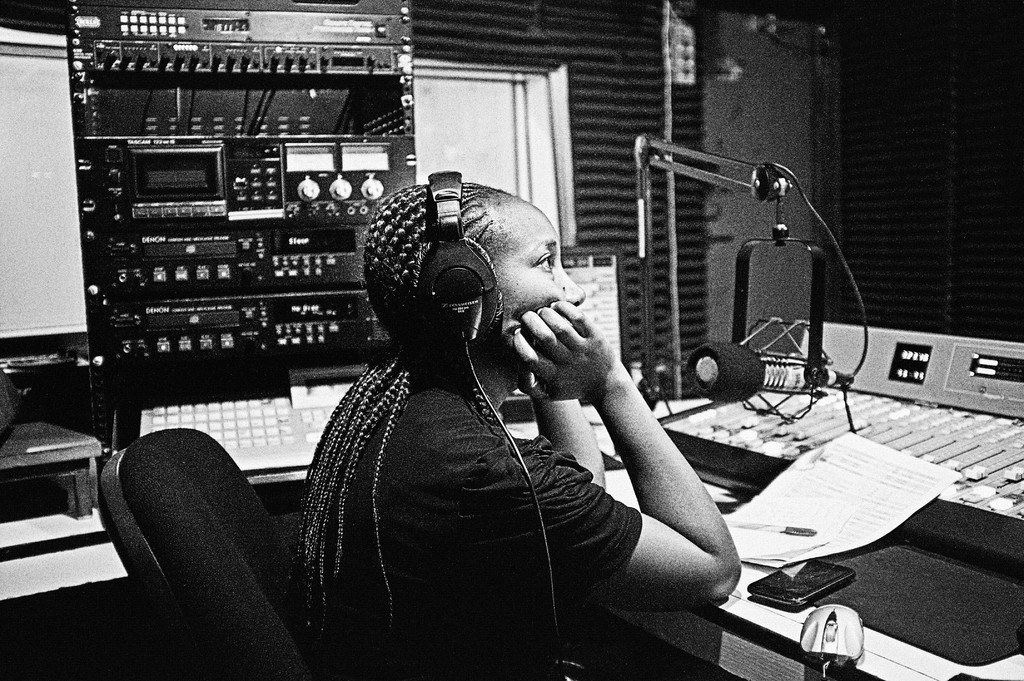Person: (280, 180, 742, 680)
